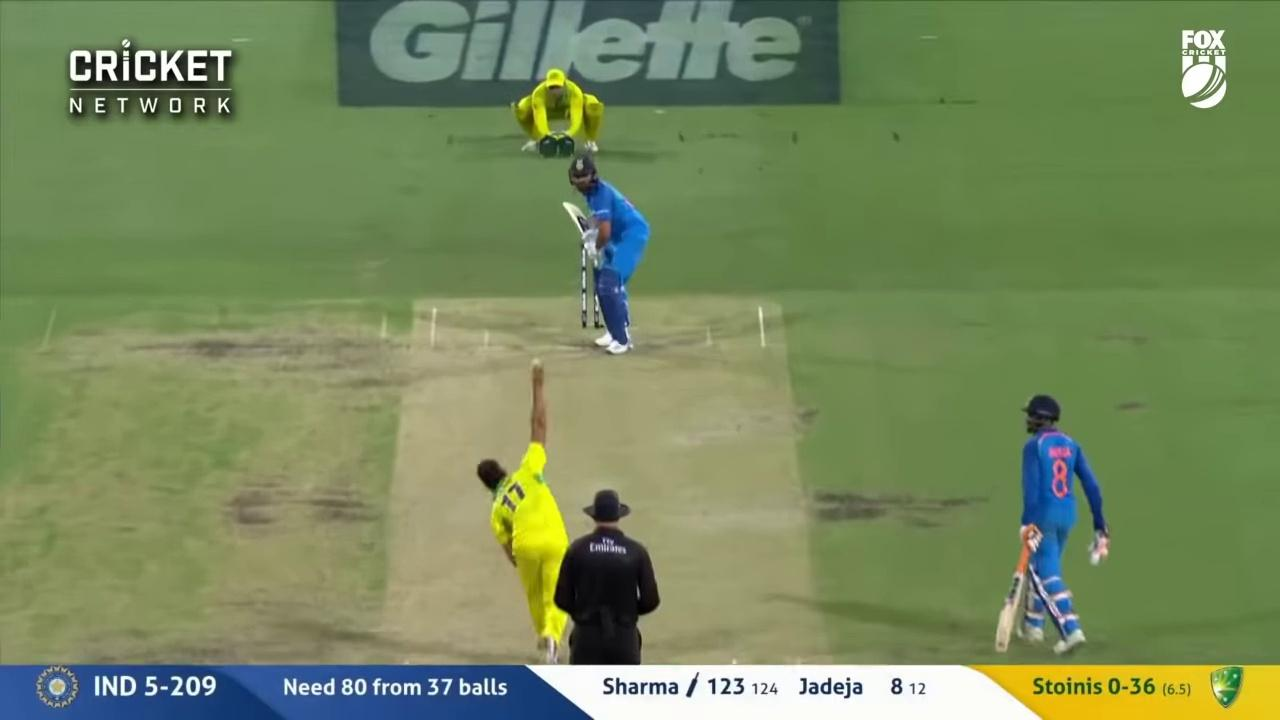batsman: (565, 164, 646, 351)
